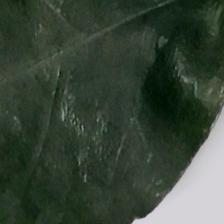healthy: (4, 5, 174, 203)
